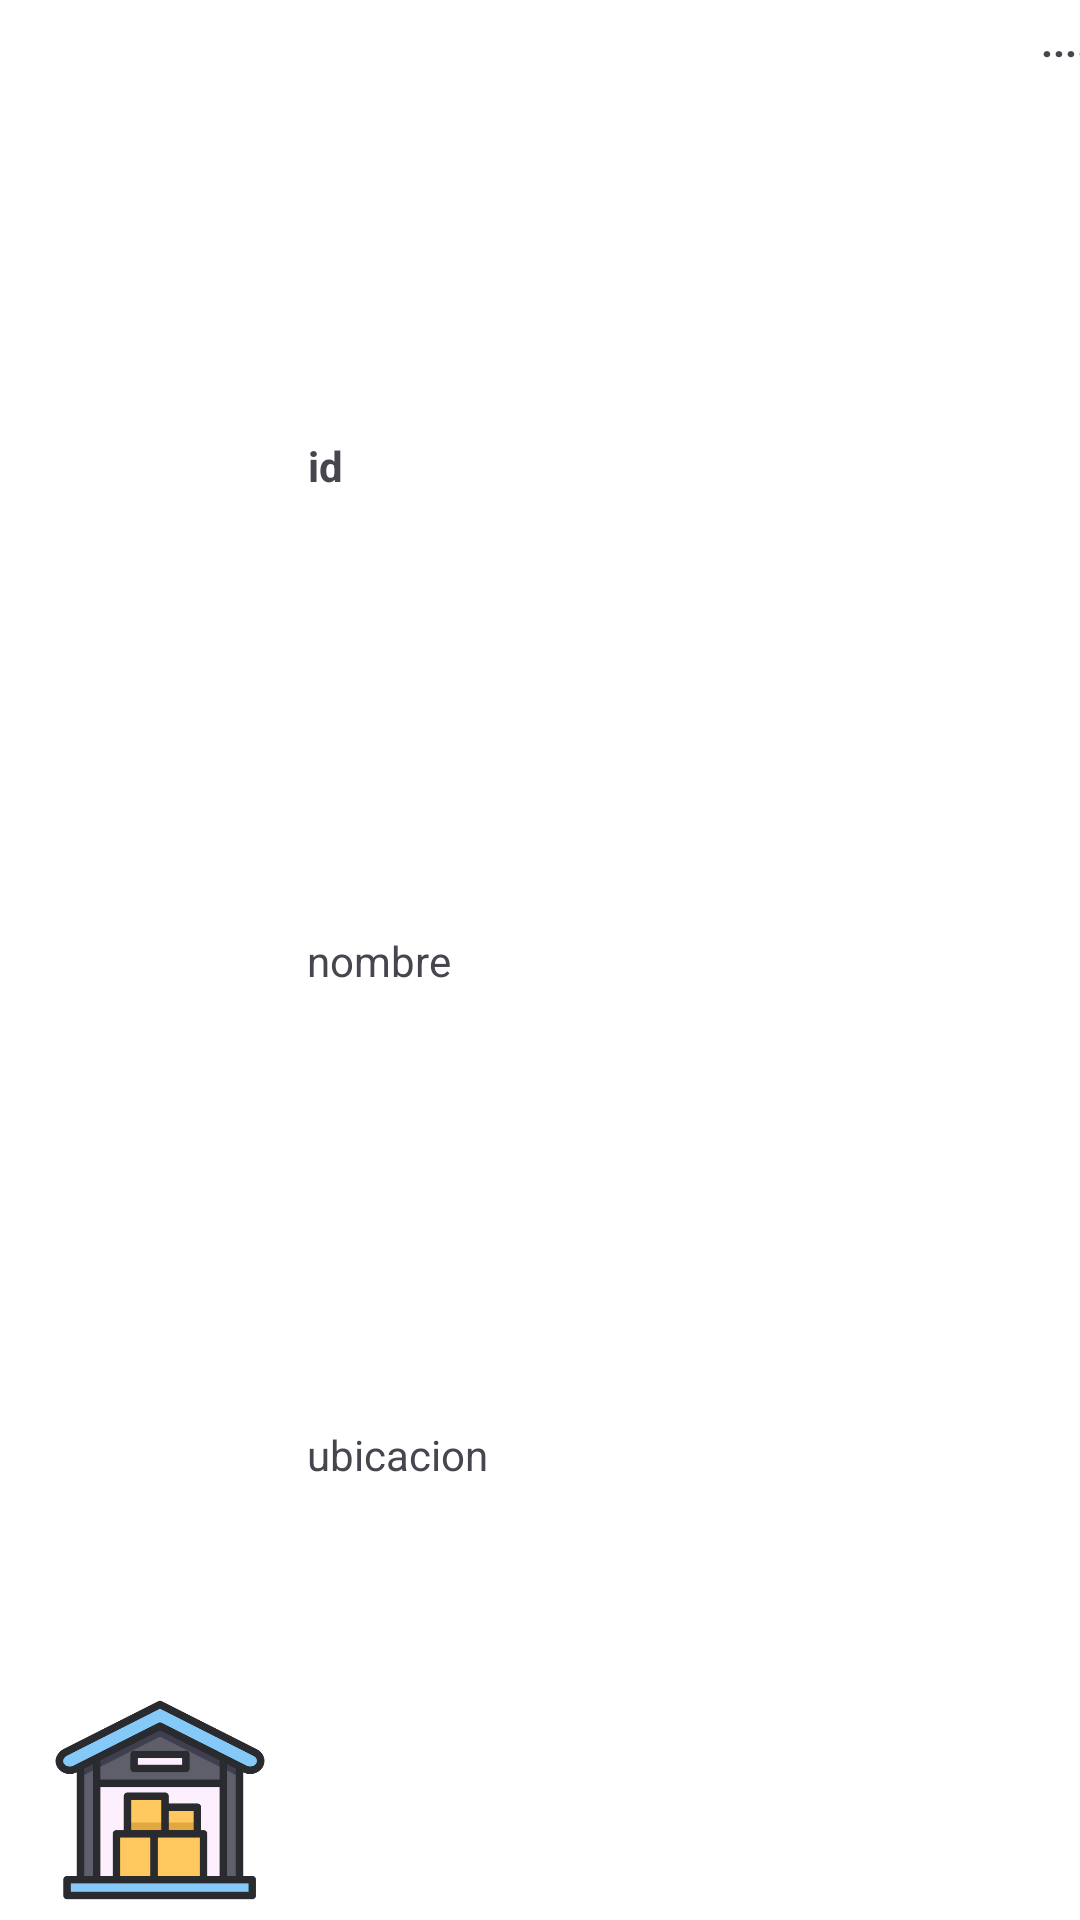

Point at icon controls on the screen. Image size 1080px×1920px, points as point (x, y).
almacen: point (160, 1800)
